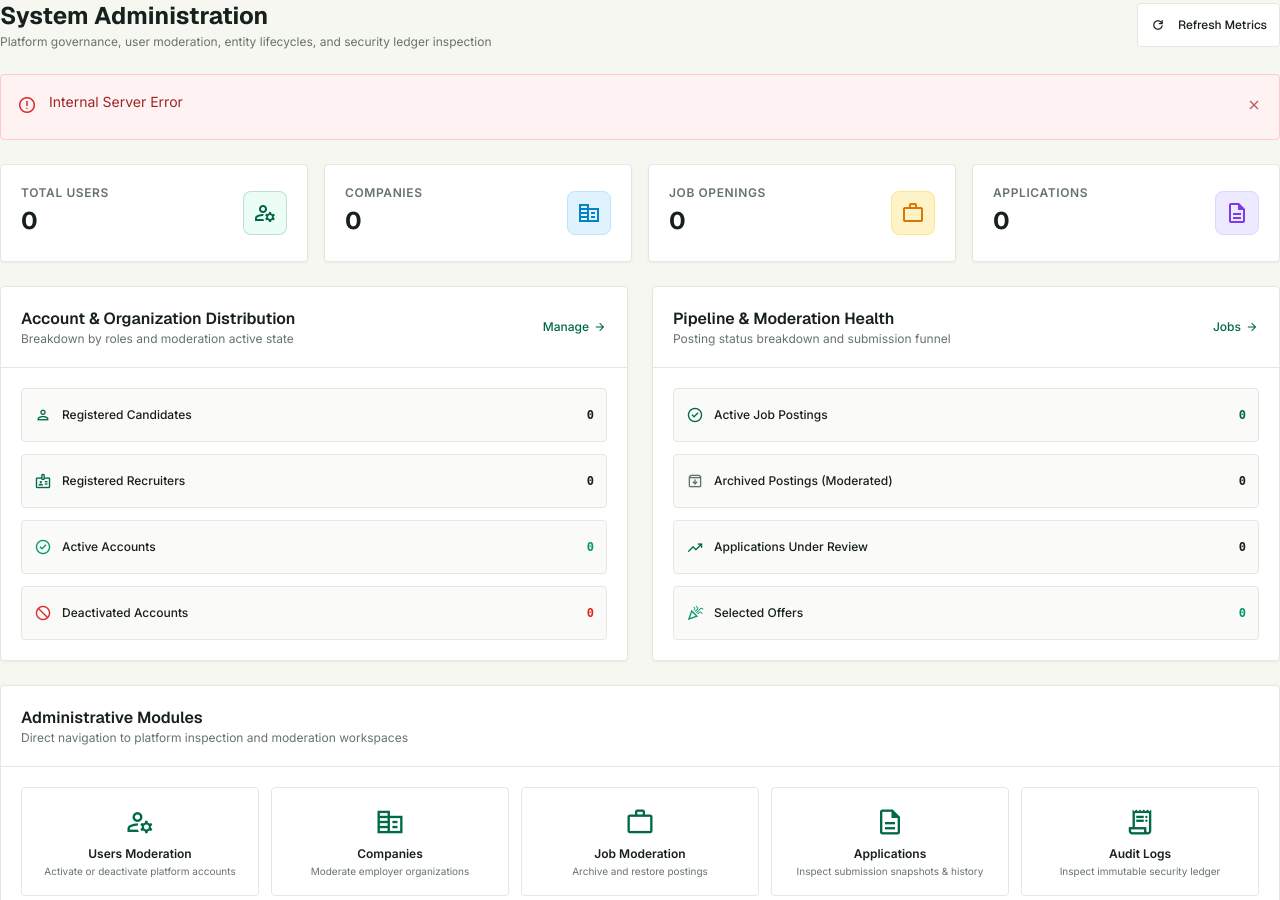
Test: AdminDashboardPage Component › handles API error with graceful error alert and refresh action
Expected: the text "Internal Server Error" is shown, [49,93,183,110]
Click the button "Refresh Metrics": (1208, 25) [1137,3,1279,47]
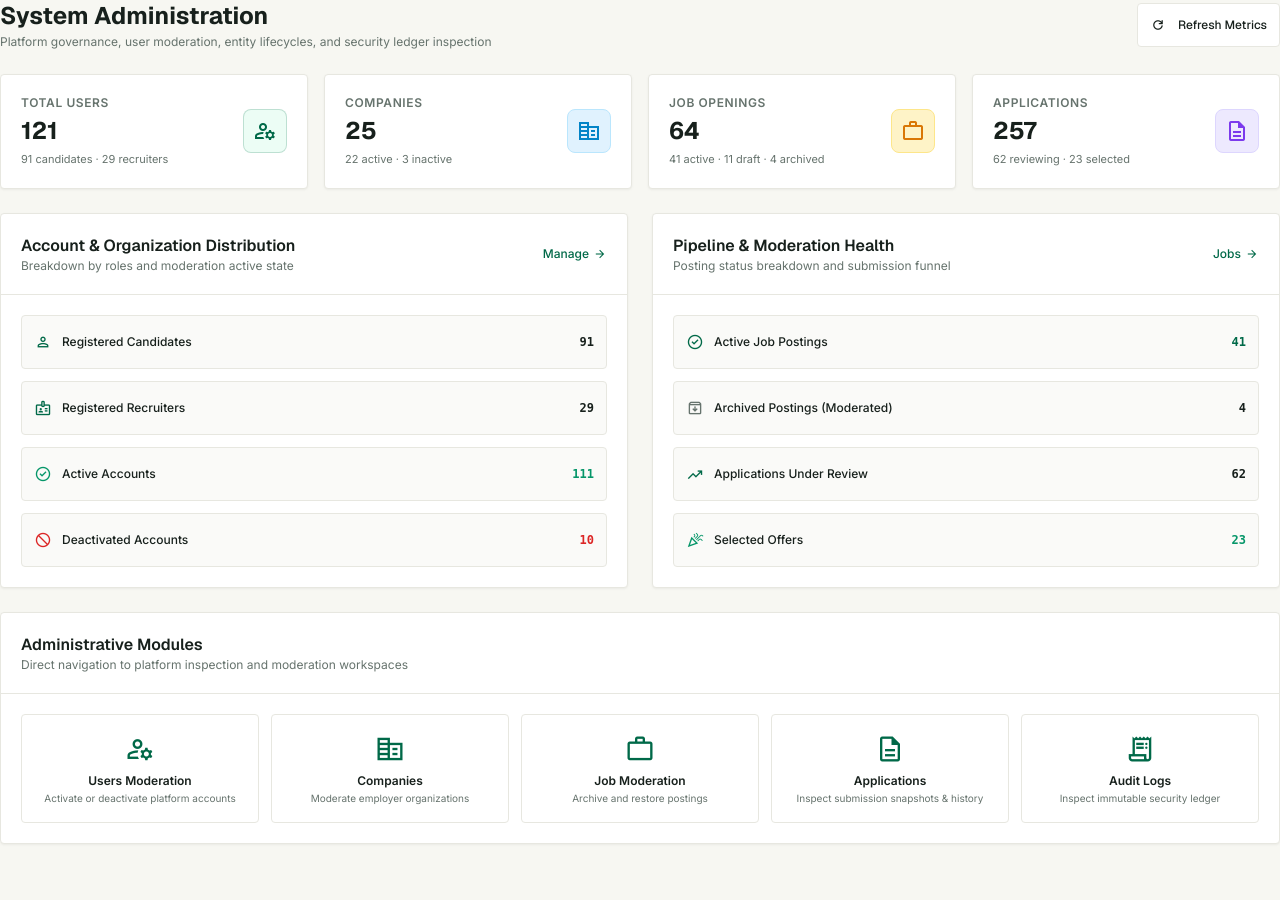
Now the heading "121" is shown, box [21,115,58,146]
